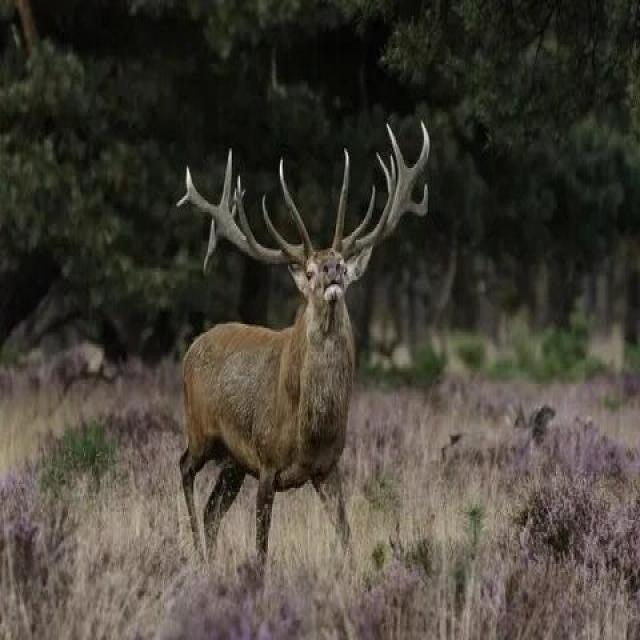deer: (114, 133, 448, 539)
